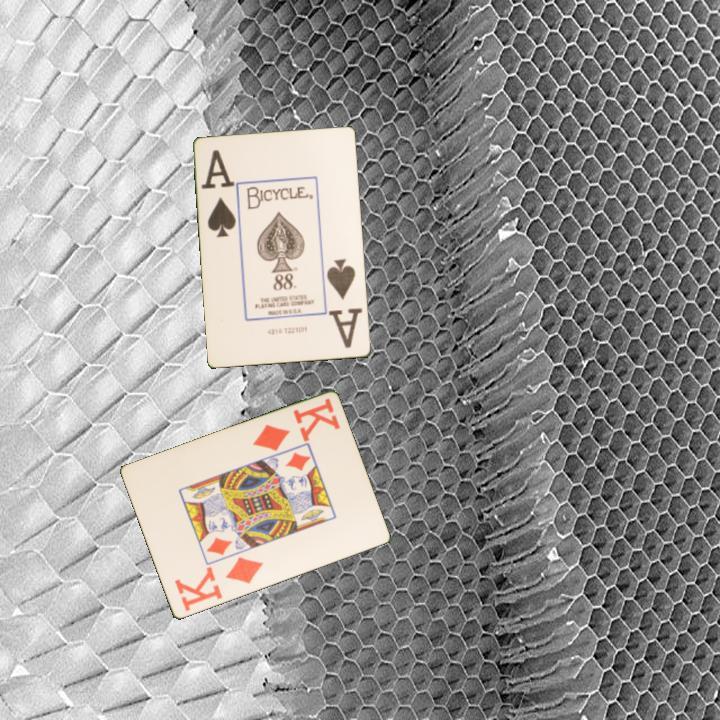As: (198, 147, 239, 241), (324, 256, 359, 342)
Kd: (171, 554, 266, 614), (249, 394, 342, 454)
